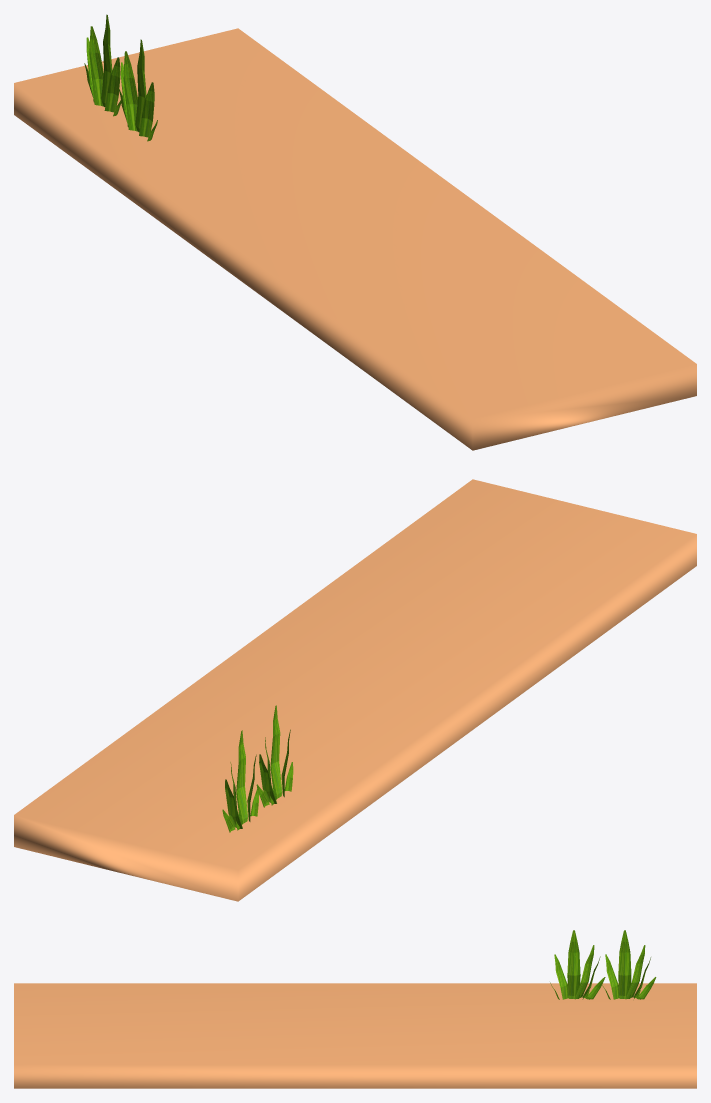
File: trap_up_1.fbx
3 renders of one model, top to bottom at view 1: azimuth 30°, elevation 25°; view 2: azimuth 150°, elevation 25°; view 3: azimuth 270°, elevation 25°, orthographic. The views are drawn at different scales.
Visible parts, largest first — view 1: trap.up.001; view 2: trap.up.001; view 3: trap.up.001.
Part boxes in pixels (x1,y1,x2,y2): trap.up.001: (14,14,696,450); trap.up.001: (14,479,696,901); trap.up.001: (14,930,696,1088).
Size of the model in its own units: 479 by 255 by 1698.
